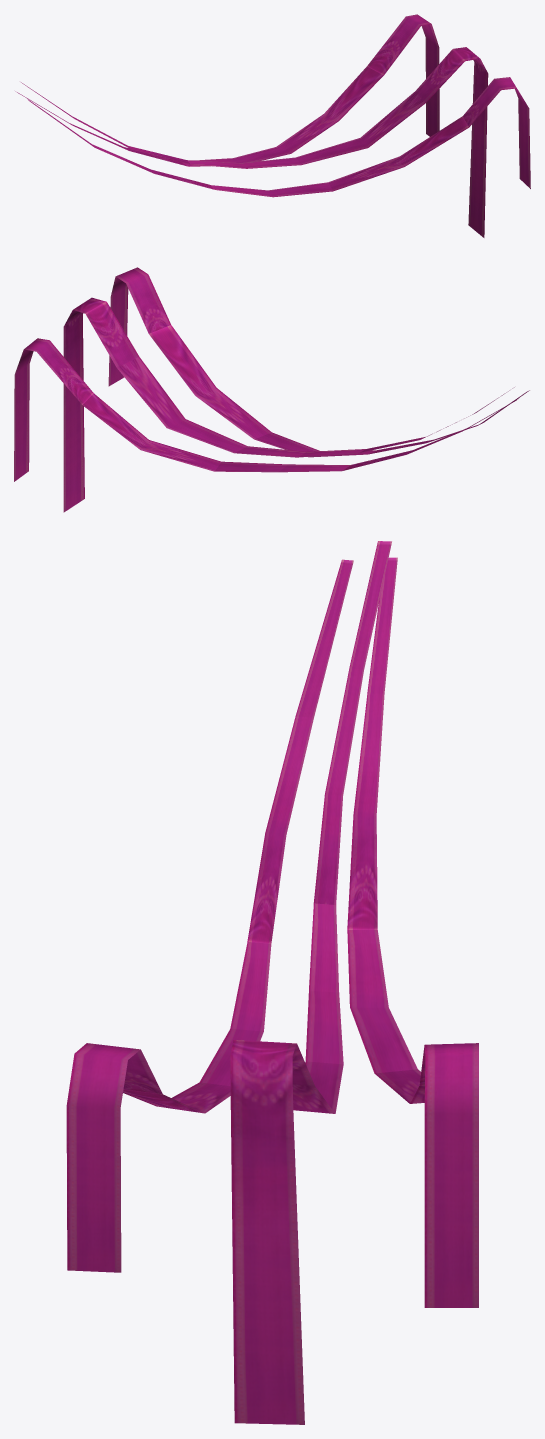
Rendered from ZYthi_CLF_zhujiancaidai03.FBX.
3 views of the same model, one above another, from view 1: azimuth 30°, elevation 25°; view 2: azimuth 150°, elevation 25°; view 3: azimuth 270°, elevation 25° (orthographic). The views are drawn at different scales.
Visible parts, largest first — view 1: ZYthi_CLF_zhujiancaidai03; view 2: ZYthi_CLF_zhujiancaidai03; view 3: ZYthi_CLF_zhujiancaidai03.
Part boxes in pixels (x1=…): ZYthi_CLF_zhujiancaidai03: x1=15, y1=14, x2=530, y2=237; ZYthi_CLF_zhujiancaidai03: x1=14, y1=267, x2=529, y2=512; ZYthi_CLF_zhujiancaidai03: x1=66, y1=541, x2=478, y2=1424.
Bounding box in the file's own units: 2300 × 1173 × 942.
